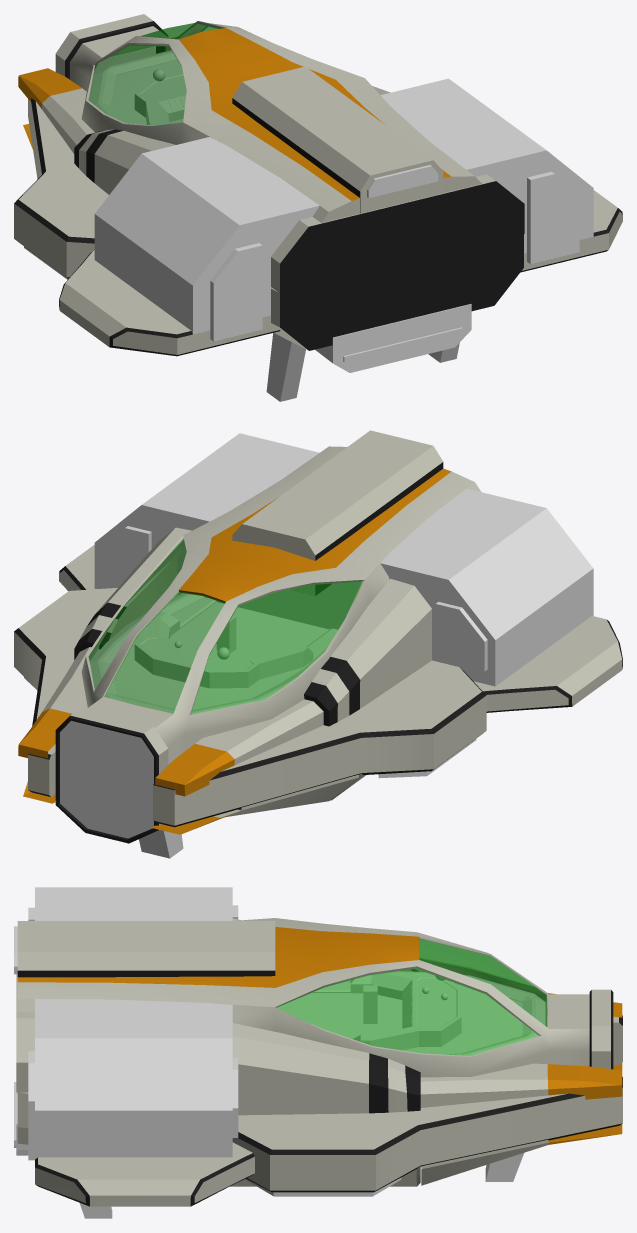
File: Ship_Exterior_Colored.fbx
3 renders of one model, top to bottom at view 1: azimuth 30°, elevation 25°; view 2: azimuth 150°, elevation 25°; view 3: azimuth 270°, elevation 25°, orthographic.
Visible parts, largest first — view 1: polySurface64, polySurface87, polySurface12, polySurface29, polySurface63, polySurface91, polySurface57, polySurface58, polySurface38, polySurface37, polySurface78, pCube12 (+15 smaller); view 2: polySurface87, polySurface64, polySurface63, polySurface12, polySurface78, polySurface29, polySurface3, polySurface93, polySurface85, pasted__polySurface86, polySurface50, polySurface91 (+13 smaller); view 3: polySurface29, polySurface87, polySurface90, polySurface12, polySurface51, polySurface65, polySurface92, pasted__polySurface85, polySurface64, polySurface3, polySurface24, polySurface50 (+13 smaller).
Part boxes in pixels (<box>): polySurface64: <box>94,137,319,334</box>; polySurface87: <box>70,21,481,222</box>; polySurface12: <box>232,66,443,213</box>; polySurface29: <box>380,78,593,253</box>; polySurface63: <box>14,98,108,278</box>; polySurface91: <box>59,250,280,356</box>; polySurface57: <box>271,203,402,293</box>; polySurface58: <box>271,264,401,350</box>; polySurface38: <box>402,174,524,263</box>; polySurface37: <box>402,234,523,320</box>; polySurface78: <box>88,44,186,125</box>; pCube12: <box>210,243,262,341</box>; polySurface87: <box>81,446,480,764</box>; polySurface64: <box>295,488,593,686</box>; polySurface63: <box>153,660,486,827</box>; polySurface12: <box>232,430,443,595</box>; polySurface78: <box>191,581,362,714</box>; polySurface29: <box>94,433,319,620</box>; polySurface3: <box>90,593,329,714</box>; polySurface93: <box>304,578,431,726</box>; polySurface85: <box>60,720,153,838</box>; pasted__polySurface86: <box>151,699,358,834</box>; polySurface50: <box>104,591,224,713</box>; polySurface91: <box>474,616,622,712</box>; polySurface29: <box>35,999,232,1159</box>; polySurface87: <box>17,918,589,1077</box>; polySurface90: <box>230,1077,622,1192</box>; polySurface12: <box>17,921,275,977</box>; polySurface51: <box>276,968,538,1055</box>; polySurface65: <box>232,1023,420,1115</box>; polySurface92: <box>35,1142,254,1206</box>; pasted__polySurface85: <box>420,1063,622,1185</box>; polySurface64: <box>35,887,232,920</box>; polySurface3: <box>280,971,541,1055</box>; polySurface24: <box>277,971,545,1053</box>; polySurface50: <box>419,938,547,1026</box>.
Bounding box in the file's own units: 41.25 × 18.23 × 42.15.
